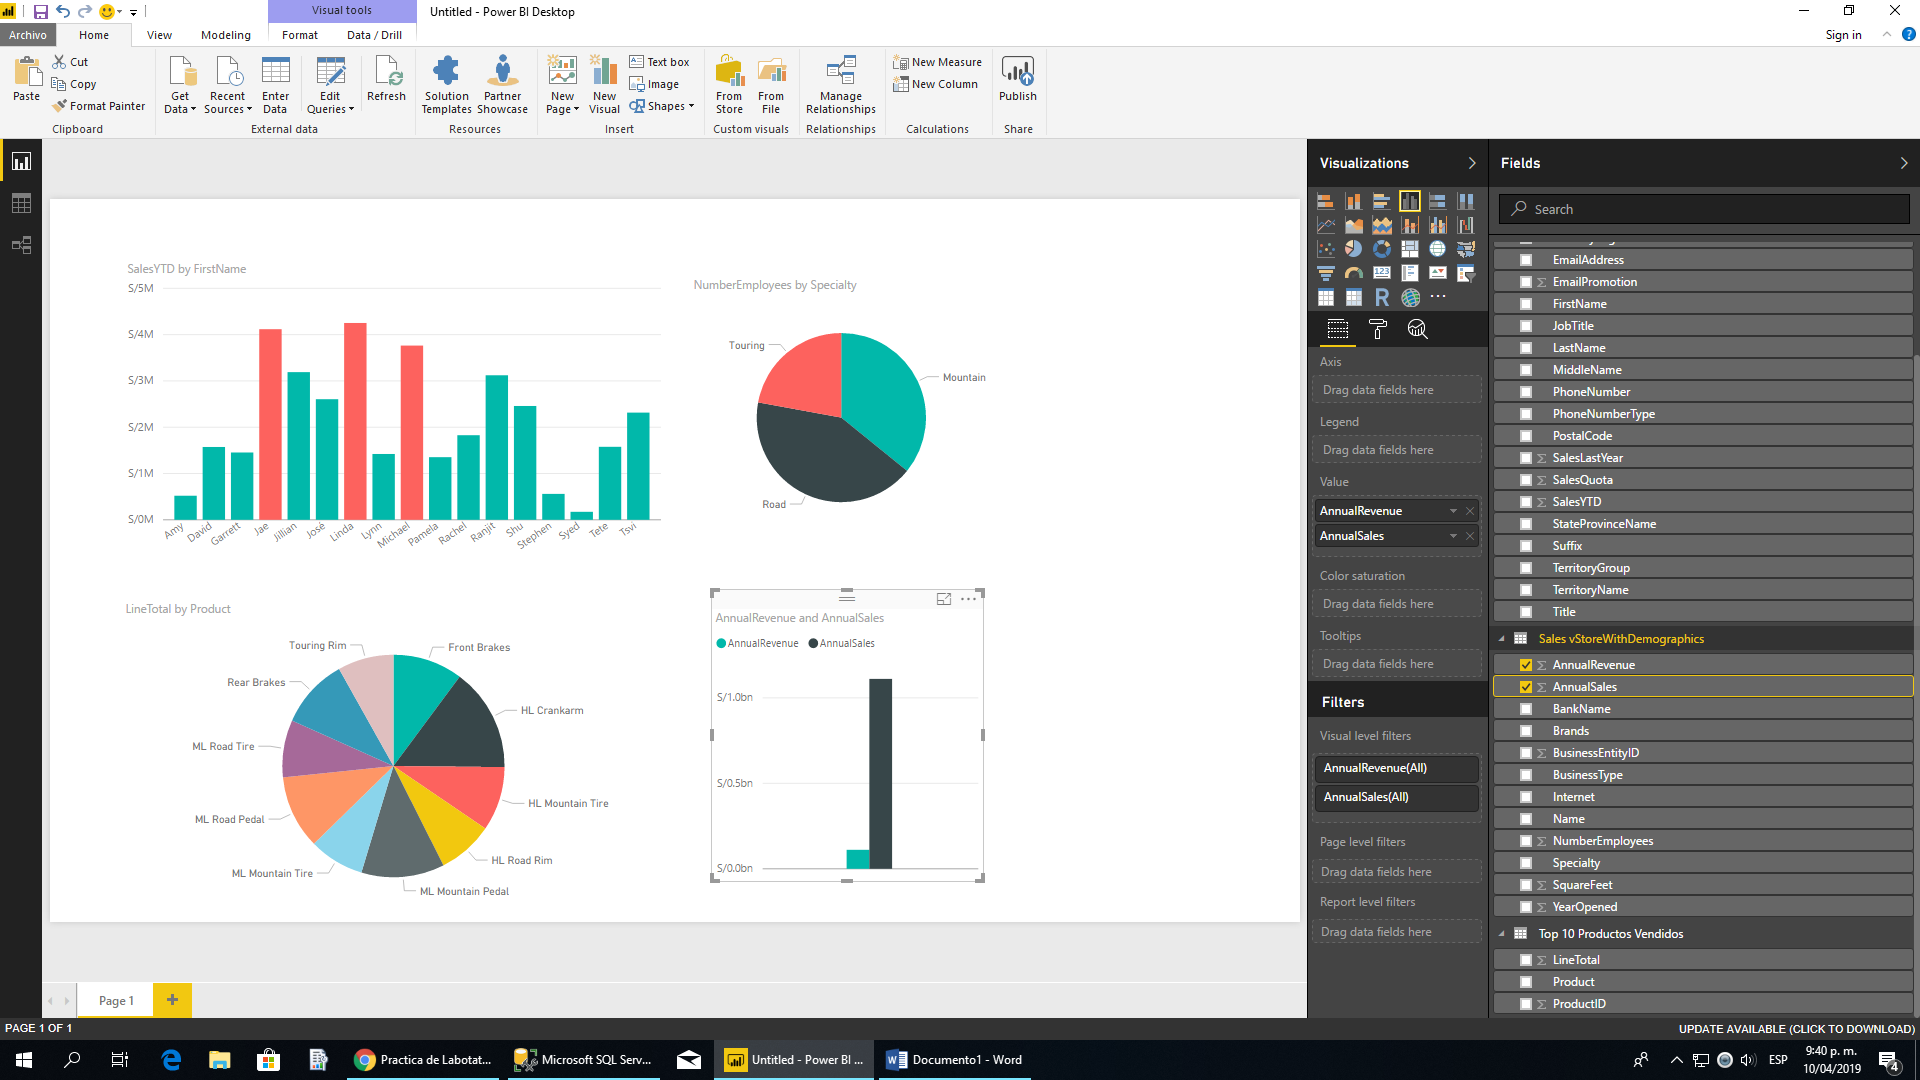

The page's visual inventory and layout, read from the dashboard file:
{"tool":"powerbi","page":{"name":"Ventas","canvas":[1280,720],"ordinal":0},"visuals":[{"type":"columnChart","fields":{"Category":["Sales vSalesPerson.FirstName"],"Y":["Sum(Sales vSalesPerson.SalesYTD)"]},"box":[74.8,42,556,307.2],"z":1},{"type":"pieChart","fields":{"Category":["Sales vStoreWithDemographics.Specialty"],"Y":["Sum(Sales vStoreWithDemographics.NumberEmployees)"]},"box":[654.3,58.4,312.3,274.4],"z":2},{"type":"pieChart","fields":{"Category":["Top 10 Productos Vendidos.Product"],"Y":["Sum(Top 10 Productos Vendidos.LineTotal)"]},"box":[72.7,390.1,558.1,323.6],"z":3},{"type":"clusteredColumnChart","fields":{"Y":["Sum(Sales vStoreWithDemographics.AnnualRevenue)","Sum(Sales vStoreWithDemographics.AnnualSales)"]},"box":[673.8,398.3,335.9,303.1],"z":4}]}

Visuals, with their boxes on the page's 1280x720 design canvas (x1, y1, x2, y2). These are canvas units, not pixel positions in the 1920x1080 screenshot, which may show the page scaled, cropped or inside an application window:
columnChart - Sales vSalesPerson.FirstName x Sum(Sales vSalesPerson.SalesYTD): (left=75, top=42, right=631, bottom=349)
pieChart - Sales vStoreWithDemographics.Specialty x Sum(Sales vStoreWithDemographics.NumberEmployees): (left=654, top=58, right=967, bottom=333)
pieChart - Top 10 Productos Vendidos.Product x Sum(Top 10 Productos Vendidos.LineTotal): (left=73, top=390, right=631, bottom=714)
clusteredColumnChart - Sum(Sales vStoreWithDemographics.AnnualRevenue) x Sum(Sales vStoreWithDemographics.AnnualSales): (left=674, top=398, right=1010, bottom=701)
